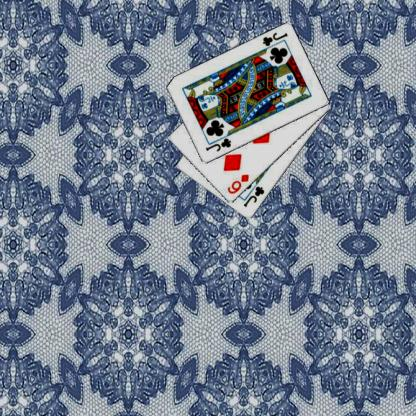6D: (225, 172, 250, 195)
JC: (241, 184, 266, 208), (203, 135, 232, 153), (260, 30, 288, 48)
